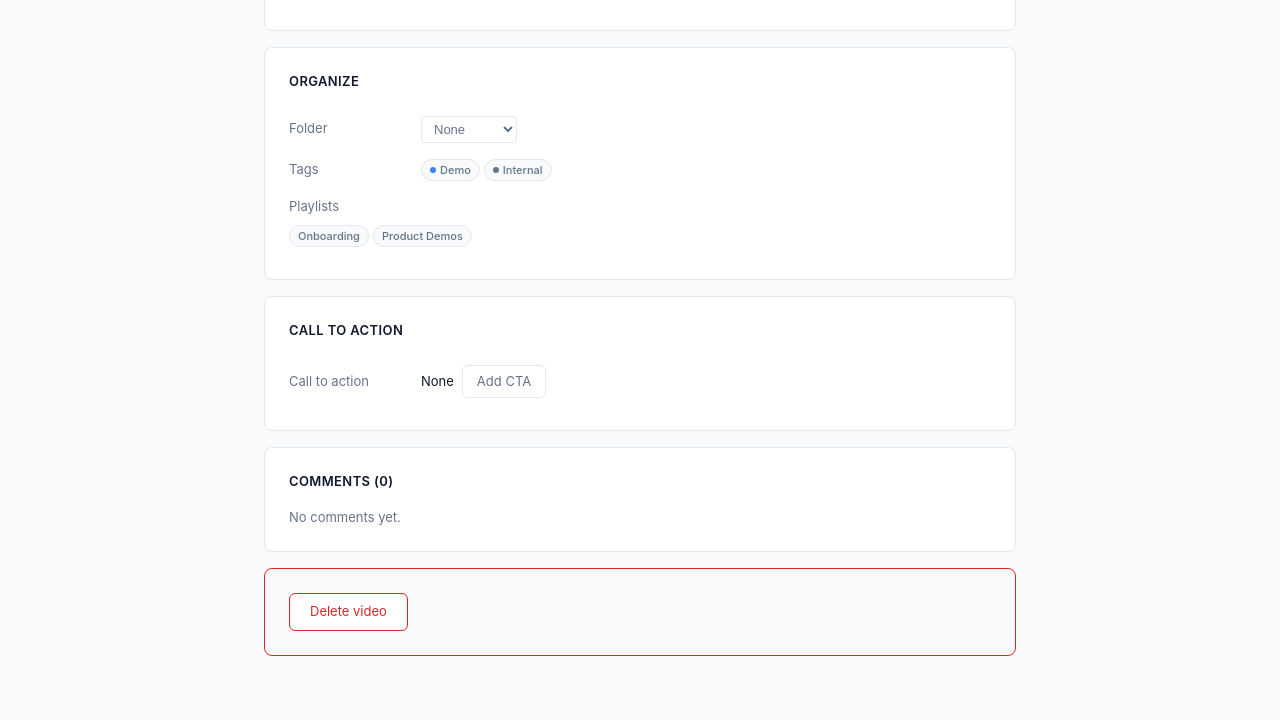
Test: VideoDetail › does not delete when confirm is cancelled
(page scrolled)
Click the button "Delete video": (348, 612) [289, 593, 408, 630]
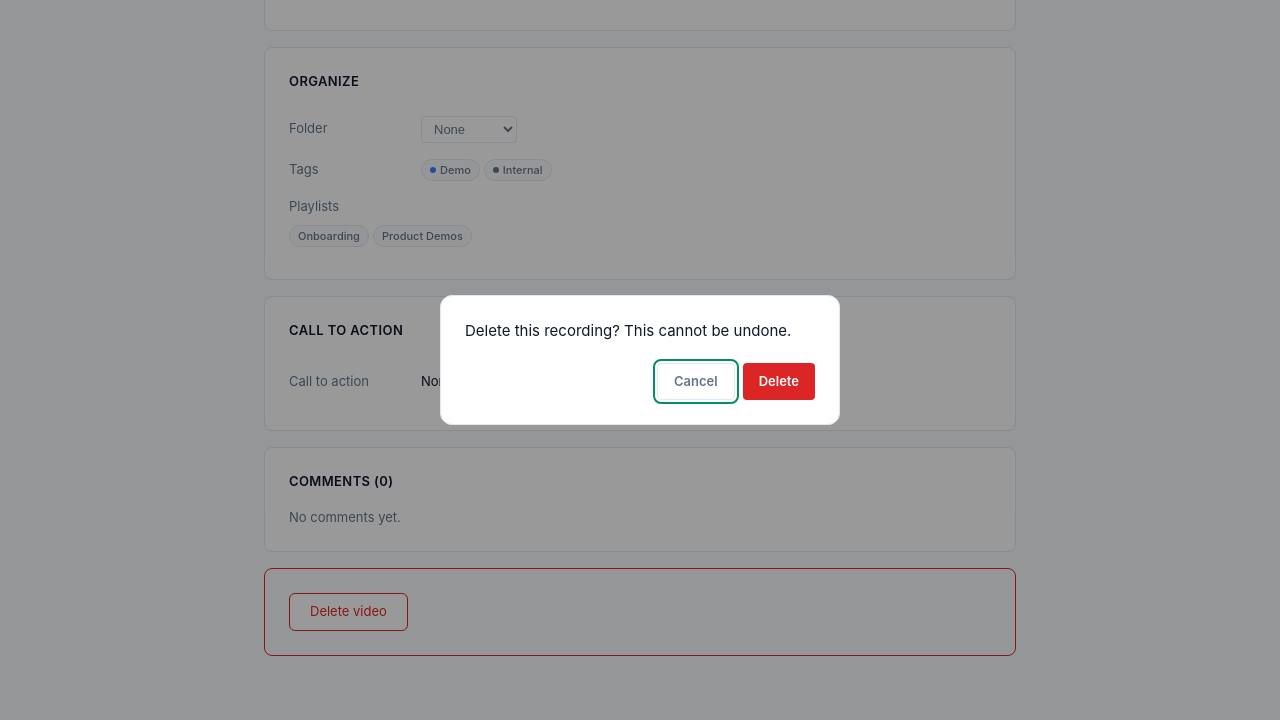
Click the button "Cancel": (696, 381) [657, 362, 735, 400]
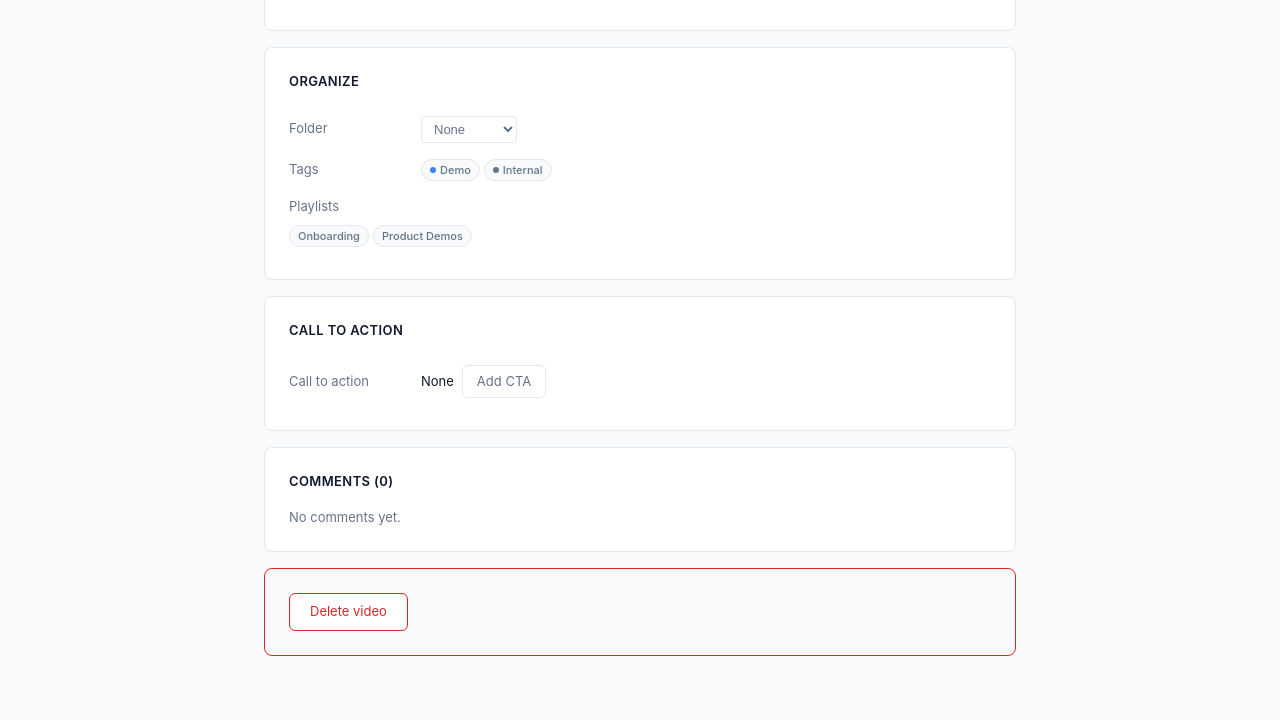
expect the dialog is gone: met
